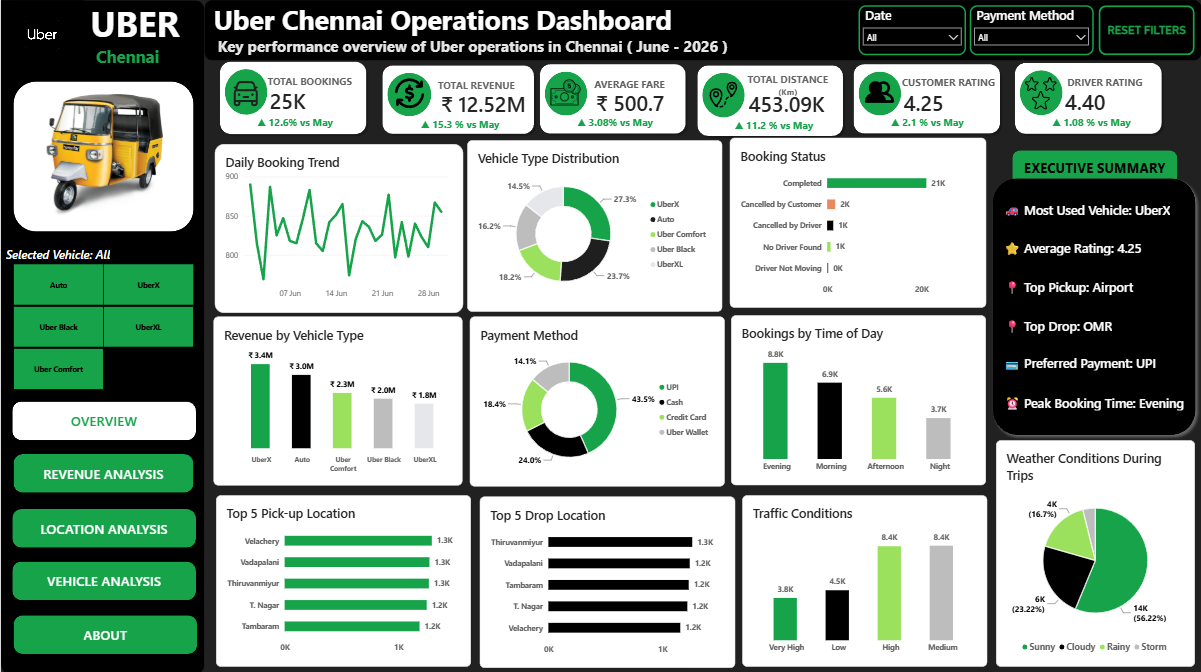

This screenshot's page, from the dashboard's own definition file:
{"tool":"powerbi","page":{"name":"Overview","canvas":[1920,1080],"ordinal":0},"visuals":[{"type":"shape","box":[0,1.4,325.7,1078.6],"z":0},{"type":"shape","box":[343.3,93.3,246.7,128.3],"z":0,"group":"g1"},{"type":"shape","box":[1106.7,96.7,245.3,125.3],"z":0,"group":"g4"},{"type":"shape","box":[1616.7,96.7,246.7,125],"z":0,"group":"g5"},{"type":"shape","box":[598.3,98.3,247.3,128.7],"z":0,"group":"g2"},{"type":"shape","box":[855,98.3,245.7,123.7],"z":0,"group":"g3"},{"type":"shape","box":[1358.3,98.3,246.7,123.3],"z":0,"group":"g6"},{"type":"textbox","box":[37.5,20,252.5,77.5],"z":1000},{"type":"cardVisual","fields":{"Data":["Measures (2).Total Bookings"]},"box":[418,125.6,122,70],"z":1000,"group":"g1"},{"type":"cardVisual","fields":{"Data":["Avg(Fact_Trips.Driver Rating)"]},"box":[1691.4,128.2,122,68.2],"z":1000,"group":"g5"},{"type":"cardVisual","fields":{"Data":["Measures (2).Total Distance"]},"box":[1182.3,129.2,168.3,68.6],"z":1000,"group":"g4"},{"type":"cardVisual","fields":{"Data":["Measures (2).Average Rating"]},"box":[1433,129.4,122,67.3],"z":1000,"group":"g6"},{"type":"cardVisual","fields":{"Data":["Measures (2).Average Fare"]},"box":[939.4,130.4,161.7,67.7],"z":1000,"group":"g3"},{"type":"cardVisual","fields":{"Data":["Measures (2).Total Revenue"]},"box":[683.3,131.7,163.3,70.4],"z":1000,"group":"g2"},{"type":"textbox","box":[38,96,272,48],"z":2000},{"type":"textbox","box":[1182.3,112.5,150,47.3],"z":2000,"group":"g4"},{"type":"textbox","box":[418,119.6,152,48],"z":2000,"group":"g1"},{"type":"textbox","box":[1691.4,122.3,152,46.8],"z":2000,"group":"g5"},{"type":"textbox","box":[1432.3,123.3,168,46.1],"z":2000,"group":"g6"},{"type":"textbox","box":[929.4,123.7,151.4,46.3],"z":2000,"group":"g3"},{"type":"textbox","box":[673.2,124.7,152.4,48.1],"z":2000,"group":"g2"},{"type":"textbox","box":[38,144,252,34],"z":3000},{"type":"textbox","box":[410,185.4,180,23.8],"z":3000,"group":"g1"},{"type":"textbox","box":[1683.4,186.4,180,23.1],"z":3000,"group":"g5"},{"type":"textbox","box":[1173,186.6,179,23.2],"z":3000,"group":"g4"},{"type":"textbox","box":[1425,186.8,180,22.8],"z":3000,"group":"g6"},{"type":"textbox","box":[921.4,187,179.3,22.9],"z":3000,"group":"g3"},{"type":"textbox","box":[665.1,190.6,180.5,23.8],"z":3000,"group":"g2"},{"type":"shape","box":[356.6,111.6,68.3,73.3],"z":4000,"group":"g1"},{"type":"shape","box":[1120,114.6,68,71.6],"z":4000,"group":"g4"},{"type":"shape","box":[1630,114.6,68.3,71.4],"z":4000,"group":"g5"},{"type":"shape","box":[1371.6,115.9,68.3,70.5],"z":4000,"group":"g6"},{"type":"shape","box":[868.3,116,68.1,70.7],"z":4000,"group":"g3"},{"type":"shape","box":[611.7,116.7,68.5,73.5],"z":4000,"group":"g2"},{"type":"shape","box":[20,204,288,220],"z":4000},{"type":"textbox","box":[28,440,280,62],"z":5000},{"type":"actionButton","box":[26,440,54,40],"z":6000},{"type":"actionButton","box":[254,440,54,40],"z":7000},{"type":"shape","box":[20,508,290,92],"z":8000},{"type":"textbox","box":[80,524,146,32],"z":9000},{"type":"textbox","box":[80,556,210,46],"z":10000},{"type":"actionButton","box":[20,728,288,62],"z":11000},{"type":"actionButton","box":[18,644,294,62],"z":12000},{"type":"actionButton","box":[18,816,294,62],"z":13000},{"type":"actionButton","box":[18,900,294,62],"z":14000},{"type":"actionButton","box":[20,986,294,62],"z":15000},{"type":"textbox","box":[326,2,1594,94],"z":16000},{"type":"slicer","fields":{"Values":["DateTable.Date"]},"box":[1104,10,172,80],"z":17000},{"type":"slicer","fields":{"Values":["Dim_Vehicle.Vehicle Type"]},"box":[1290,10,178,80],"z":18000},{"type":"slicer","fields":{"Values":["Fact_Trips.Payment Method"]},"box":[1482,10,198,80],"z":19000},{"type":"actionButton","box":[1700,10,154,80],"z":20000},{"type":"group","id":"g1","title":"Group 1","box":[343.3,93.3,246.7,128.3],"z":21000},{"type":"group","id":"g2","title":"Group 1","box":[598.3,98.3,248.3,128.3],"z":22000},{"type":"group","id":"g3","title":"Group 1","box":[855,98.3,246.7,123.3],"z":23000},{"type":"group","id":"g4","title":"Group 1","box":[1106.7,96.7,245,125],"z":24000},{"type":"group","id":"g5","title":"Group 1","box":[1616.7,96.7,243.3,125],"z":25000},{"type":"group","id":"g6","title":"Group 1","box":[1358.3,98.3,246.7,123.3],"z":26000},{"type":"lineChart","title":"Daily Booking Trend","fields":{"Category":["DateTable.Date"],"Y":["Measures (2).Total Bookings"]},"box":[341.1,231.1,397.8,270],"z":27000},{"type":"donutChart","title":"Vehicle Type Distribution","fields":{"Category":["Dim_Vehicle.Vehicle Type"],"Y":["Measures (2).Total Bookings"]},"box":[746,226,408,274],"z":28000},{"type":"clusteredBarChart","title":"Booking Status","fields":{"Category":["Fact_Trips.Booking Status"],"Y":["Measures (2).Total Bookings"]},"box":[1167.8,222.2,407.8,273.3],"z":29000},{"type":"donutChart","title":"Vehicle Type Distribution","fields":{"Category":["Fact_Trips.Payment Method"],"Y":["Measures (2).Total Bookings"]},"box":[750,508,408,272],"z":30000},{"type":"columnChart","title":"Revenue by Vehicle Type","fields":{"Y":["Measures (2).Total Revenue"],"Category":["Dim_Vehicle.Vehicle Type"]},"box":[340,508,398,270],"z":31000},{"type":"clusteredBarChart","title":"Top 5 Drop Location","fields":{"Y":["Measures (2).Total Bookings"],"Category":["Fact_Trips.Drop Location"]},"box":[784,796,408,274],"z":32000},{"type":"clusteredBarChart","title":"Top 5 Pick-up Location","fields":{"Y":["CountNonNull(Fact_Trips.Booking ID)"],"Category":["Fact_Trips.Pickup Location"]},"box":[344,794,408,274],"z":33000},{"type":"clusteredColumnChart","title":"Bookings by Time of Day","fields":{"Category":["Fact_Trips.Time of Day"],"Y":["Measures (2).Total Bookings"]},"box":[1168.9,505.6,407.8,272.2],"z":34000},{"type":"clusteredColumnChart","title":"Traffic Conditions","fields":{"Category":["Fact_Trips.Traffic"],"Y":["Measures (2).Total Bookings"]},"box":[1496,790,408,274],"z":35000},{"type":"pieChart","title":"Weather Distribution","fields":{"Category":["Fact_Trips.Weather"],"Y":["Measures (2).Total Bookings"]},"box":[1208,790,274,274],"z":36000},{"type":"shape","box":[1576,222,344,558],"z":37000},{"type":"cardVisual","fields":{"Data":["Measures (2).Most Used Vehicle"]},"box":[1595,303.3,313.3,63.3],"z":38000},{"type":"cardVisual","fields":{"Data":["Measures (2).Insight Rating"]},"box":[1591.7,376.7,313.3,63.3],"z":39000},{"type":"cardVisual","fields":{"Data":["Measures (2).Insight Pickup"]},"box":[1591.7,445,328.3,63.3],"z":40000},{"type":"cardVisual","fields":{"Data":["Measures (2).Insight - Top Drop"]},"box":[1591.7,525,328.3,63.3],"z":41000},{"type":"cardVisual","fields":{"Data":["Measures (2).Insight - Peak Time"]},"box":[1591.7,651.7,328.3,63.3],"z":42000},{"type":"cardVisual","fields":{"Data":["Measures (2).Insight - Payment"]},"box":[1591.7,588.3,328.3,63.3],"z":43000}]}

Visuals, with their boxes in screenshot pixels (x1, y1, x2, y2), scaled from the page's 1920x1080 canvas onto the 1201x672 screenshot:
shape: left=0, top=1, right=204, bottom=671
shape: left=215, top=58, right=369, bottom=138
shape: left=692, top=60, right=846, bottom=138
shape: left=1011, top=60, right=1166, bottom=138
shape: left=374, top=61, right=529, bottom=141
shape: left=535, top=61, right=689, bottom=138
shape: left=850, top=61, right=1004, bottom=138
textbox: left=23, top=12, right=181, bottom=61
cardVisual - Measures (2).Total Bookings: left=261, top=78, right=338, bottom=122
cardVisual - Avg(Fact_Trips.Driver Rating): left=1058, top=80, right=1134, bottom=122
cardVisual - Measures (2).Total Distance: left=740, top=80, right=845, bottom=123
cardVisual - Measures (2).Average Rating: left=896, top=81, right=973, bottom=122
cardVisual - Measures (2).Average Fare: left=588, top=81, right=689, bottom=123
cardVisual - Measures (2).Total Revenue: left=427, top=82, right=530, bottom=126
textbox: left=24, top=60, right=194, bottom=90
textbox: left=740, top=70, right=833, bottom=99
textbox: left=261, top=74, right=357, bottom=104
textbox: left=1058, top=76, right=1153, bottom=105
textbox: left=896, top=77, right=1001, bottom=105
textbox: left=581, top=77, right=676, bottom=106
textbox: left=421, top=78, right=516, bottom=108
textbox: left=24, top=90, right=181, bottom=111
textbox: left=256, top=115, right=369, bottom=130
textbox: left=1053, top=116, right=1166, bottom=130
textbox: left=734, top=116, right=846, bottom=131
textbox: left=891, top=116, right=1004, bottom=130
textbox: left=576, top=116, right=689, bottom=131
textbox: left=416, top=119, right=529, bottom=133
shape: left=223, top=69, right=266, bottom=115
shape: left=701, top=71, right=743, bottom=116
shape: left=1020, top=71, right=1062, bottom=116
shape: left=858, top=72, right=901, bottom=116
shape: left=543, top=72, right=586, bottom=116
shape: left=383, top=73, right=425, bottom=118
shape: left=13, top=127, right=193, bottom=264
textbox: left=18, top=274, right=193, bottom=312
actionButton: left=16, top=274, right=50, bottom=299
actionButton: left=159, top=274, right=193, bottom=299
shape: left=13, top=316, right=194, bottom=373
textbox: left=50, top=326, right=141, bottom=346
textbox: left=50, top=346, right=181, bottom=375
actionButton: left=13, top=453, right=193, bottom=492
actionButton: left=11, top=401, right=195, bottom=439
actionButton: left=11, top=508, right=195, bottom=546
actionButton: left=11, top=560, right=195, bottom=599
actionButton: left=13, top=614, right=196, bottom=652
textbox: left=204, top=1, right=1200, bottom=60
slicer - DateTable.Date: left=691, top=6, right=798, bottom=56
slicer - Dim_Vehicle.Vehicle Type: left=807, top=6, right=918, bottom=56
slicer - Fact_Trips.Payment Method: left=927, top=6, right=1051, bottom=56
actionButton: left=1063, top=6, right=1160, bottom=56
"Group 1" group: left=215, top=58, right=369, bottom=138
"Group 1" group: left=374, top=61, right=530, bottom=141
"Group 1" group: left=535, top=61, right=689, bottom=138
"Group 1" group: left=692, top=60, right=846, bottom=138
"Group 1" group: left=1011, top=60, right=1163, bottom=138
"Group 1" group: left=850, top=61, right=1004, bottom=138
"Daily Booking Trend" lineChart: left=213, top=144, right=462, bottom=312
"Vehicle Type Distribution" donutChart: left=467, top=141, right=722, bottom=311
"Booking Status" clusteredBarChart: left=730, top=138, right=986, bottom=308
"Vehicle Type Distribution" donutChart: left=469, top=316, right=724, bottom=485
"Revenue by Vehicle Type" columnChart: left=213, top=316, right=462, bottom=484
"Top 5 Drop Location" clusteredBarChart: left=490, top=495, right=746, bottom=666
"Top 5 Pick-up Location" clusteredBarChart: left=215, top=494, right=470, bottom=665
"Bookings by Time of Day" clusteredColumnChart: left=731, top=315, right=986, bottom=484
"Traffic Conditions" clusteredColumnChart: left=936, top=492, right=1191, bottom=662
"Weather Distribution" pieChart: left=756, top=492, right=927, bottom=662
shape: left=986, top=138, right=1200, bottom=485
cardVisual - Measures (2).Most Used Vehicle: left=998, top=189, right=1194, bottom=228
cardVisual - Measures (2).Insight Rating: left=996, top=234, right=1192, bottom=274
cardVisual - Measures (2).Insight Pickup: left=996, top=277, right=1200, bottom=316
cardVisual - Measures (2).Insight - Top Drop: left=996, top=327, right=1200, bottom=366
cardVisual - Measures (2).Insight - Peak Time: left=996, top=406, right=1200, bottom=445
cardVisual - Measures (2).Insight - Payment: left=996, top=366, right=1200, bottom=405
